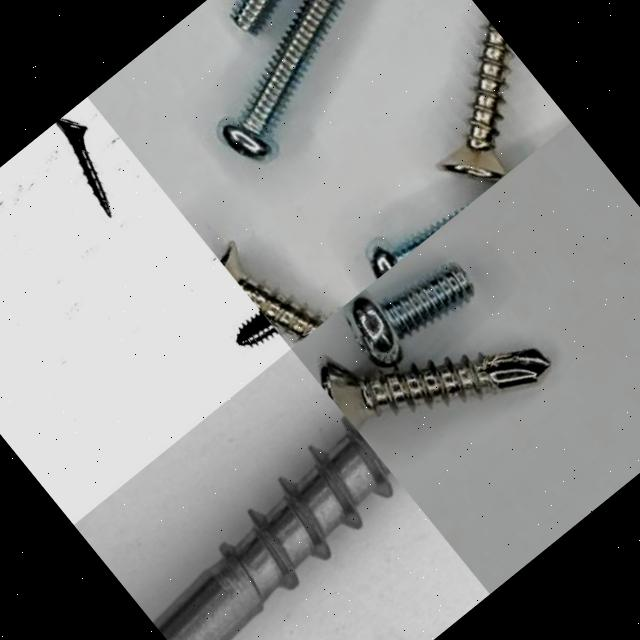Screw: (101, 383, 489, 640), (221, 0, 345, 162), (320, 347, 551, 430), (345, 262, 474, 366), (439, 22, 514, 181), (219, 241, 324, 340), (55, 119, 113, 218), (232, 0, 280, 33), (238, 311, 280, 348)
